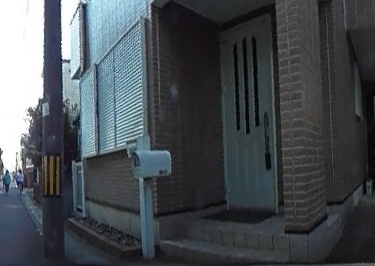person: (1, 168, 11, 192), (15, 168, 25, 191)
